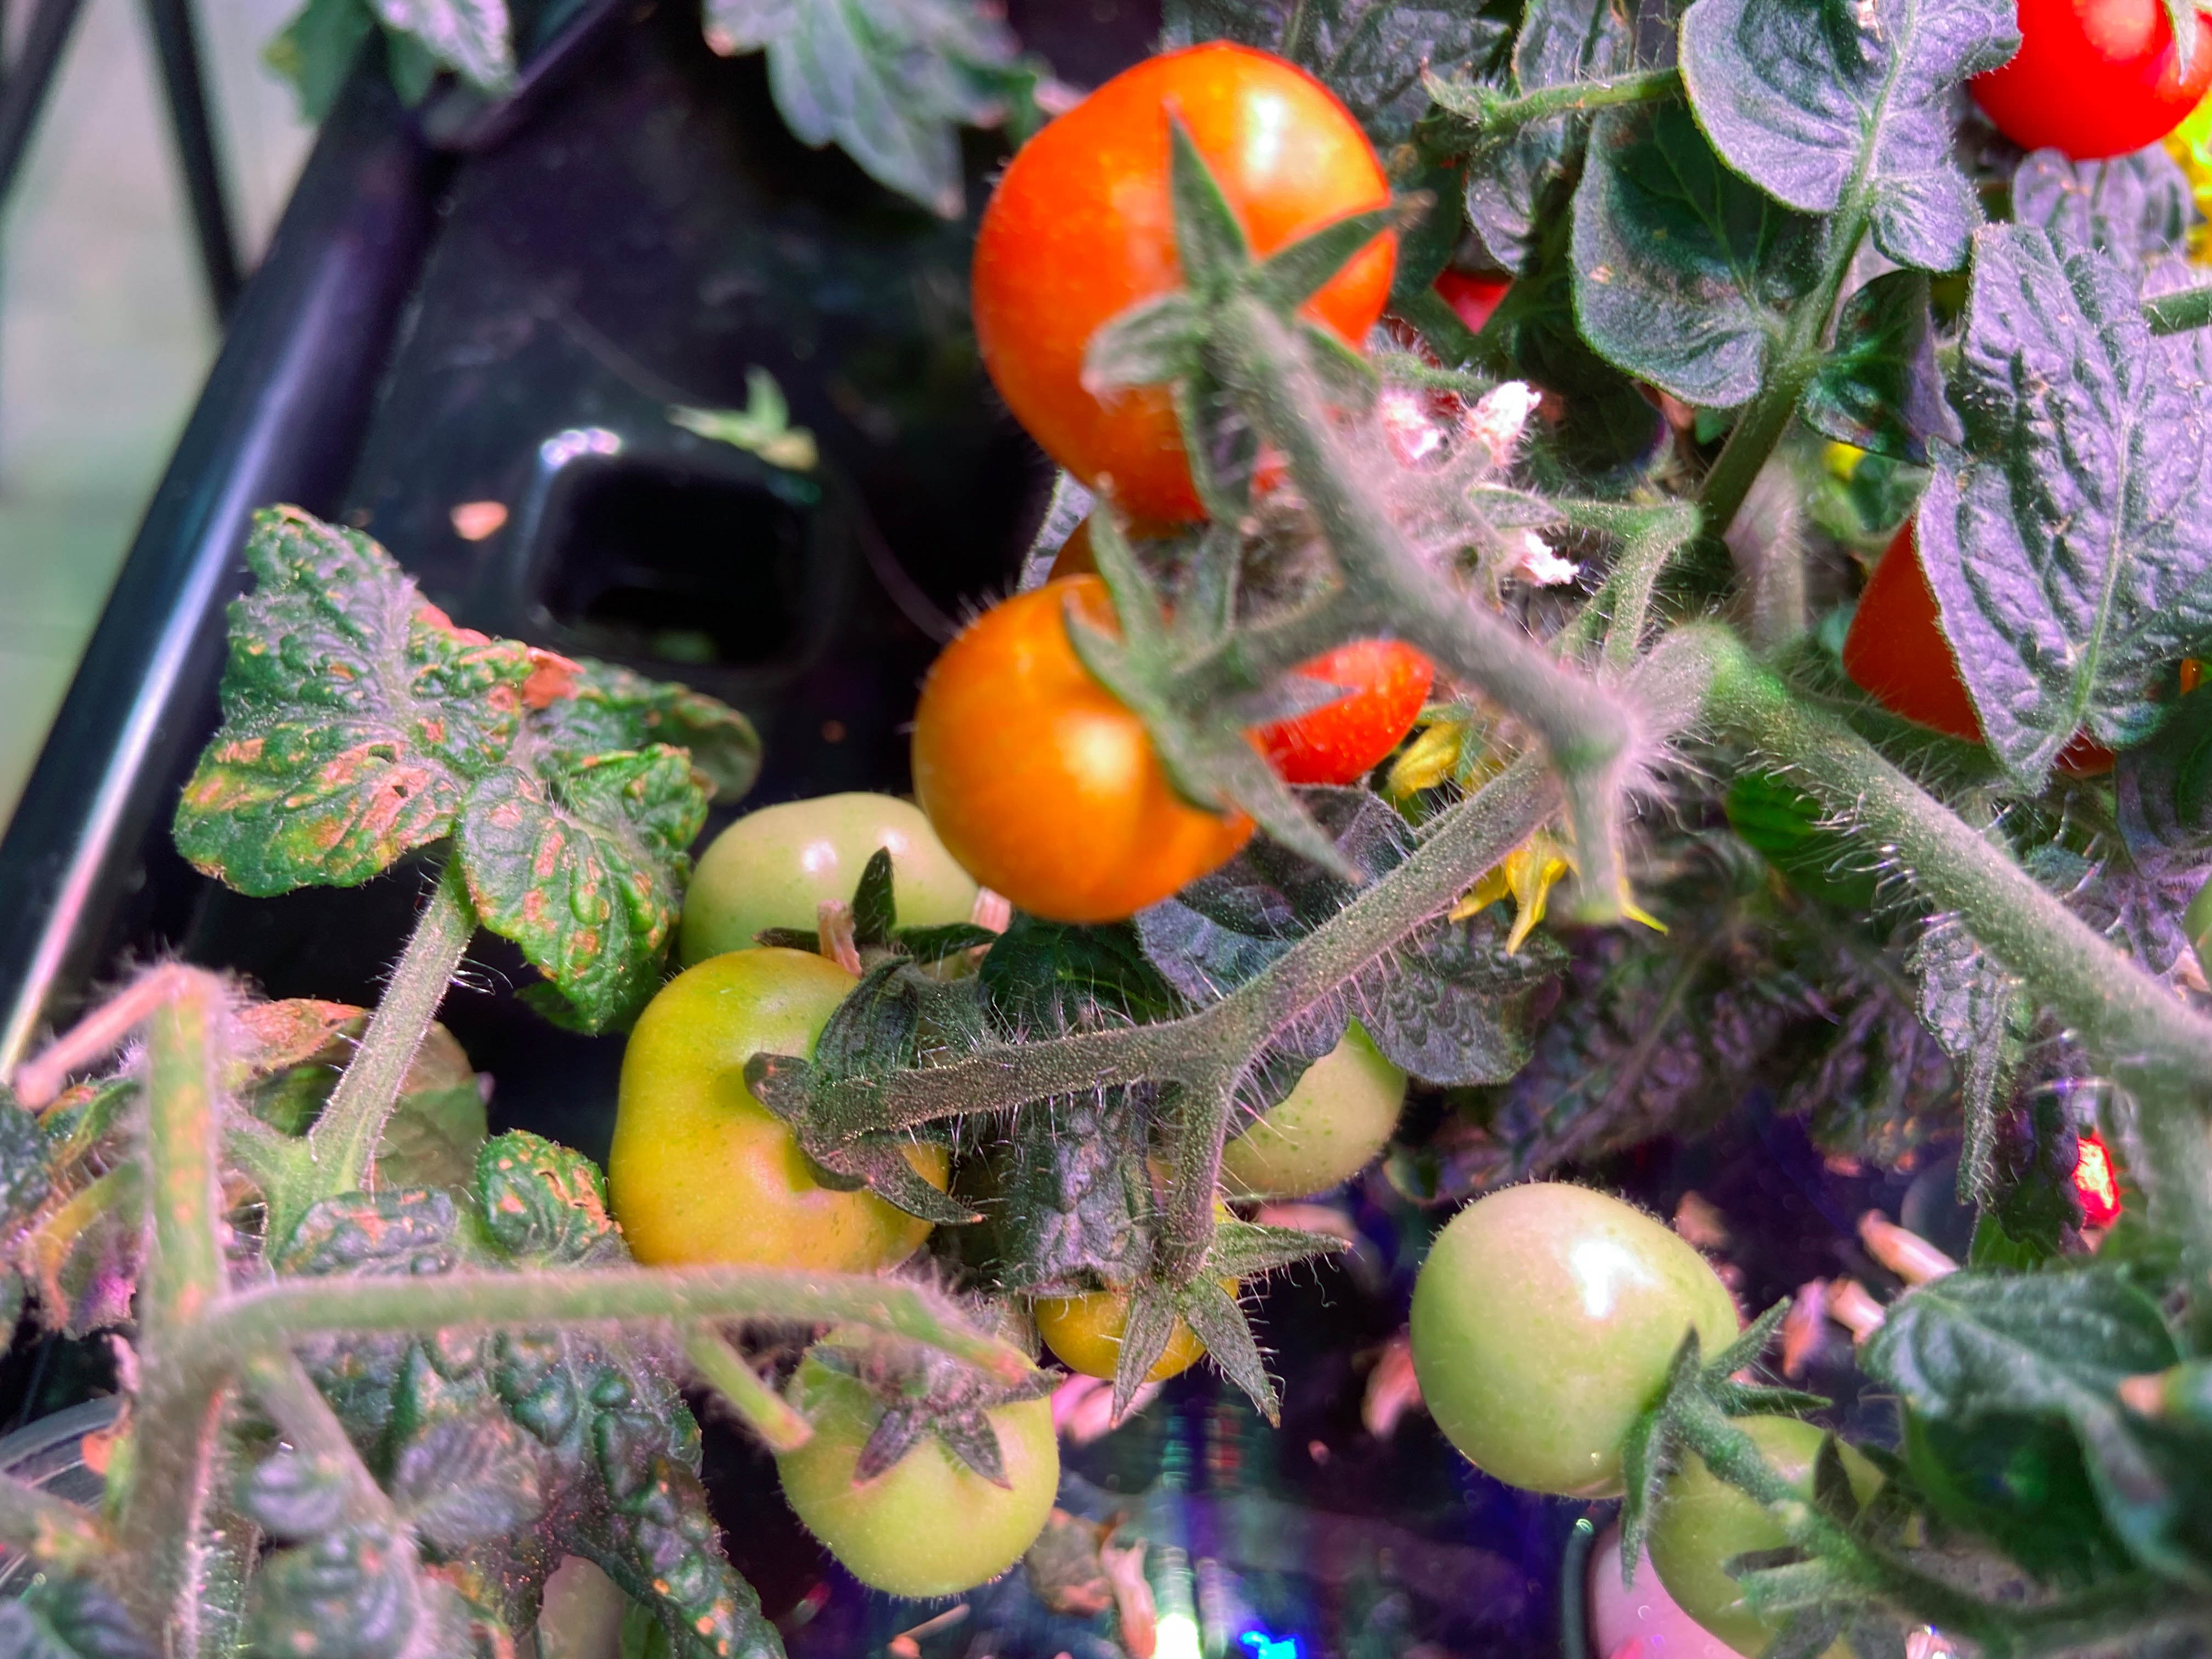green: (1406, 1175, 1730, 1495), (772, 1312, 1064, 1601), (676, 788, 1001, 997), (1642, 1399, 1900, 1656), (1216, 1019, 1409, 1197), (439, 1516, 688, 1643)
red: (967, 37, 1411, 516), (907, 561, 1263, 924), (597, 938, 953, 1298), (1961, 0, 2209, 160), (1843, 512, 2012, 744), (1035, 1199, 1233, 1384), (1251, 629, 1440, 788), (1420, 256, 1576, 411)
